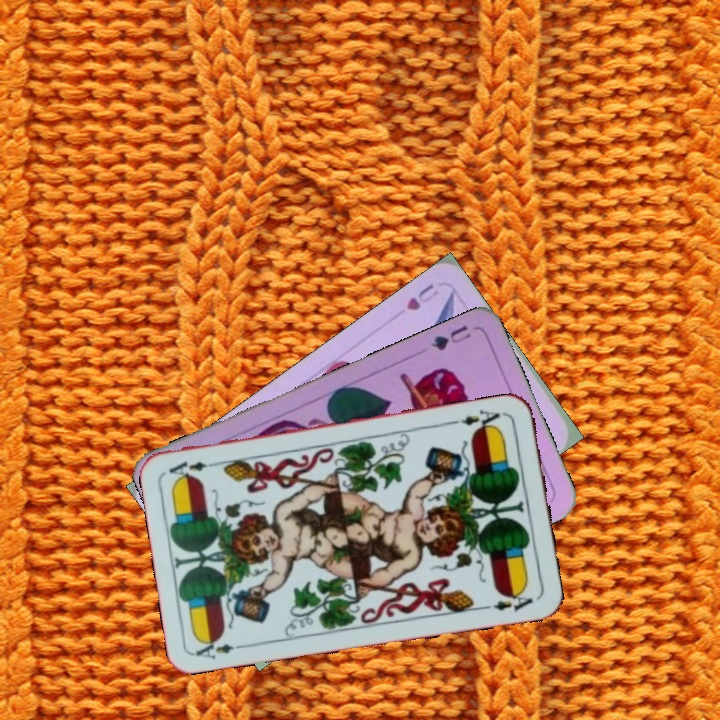EA: (191, 633, 251, 662), (449, 405, 508, 434)
GU: (427, 321, 474, 354)
HU: (402, 279, 442, 313)
